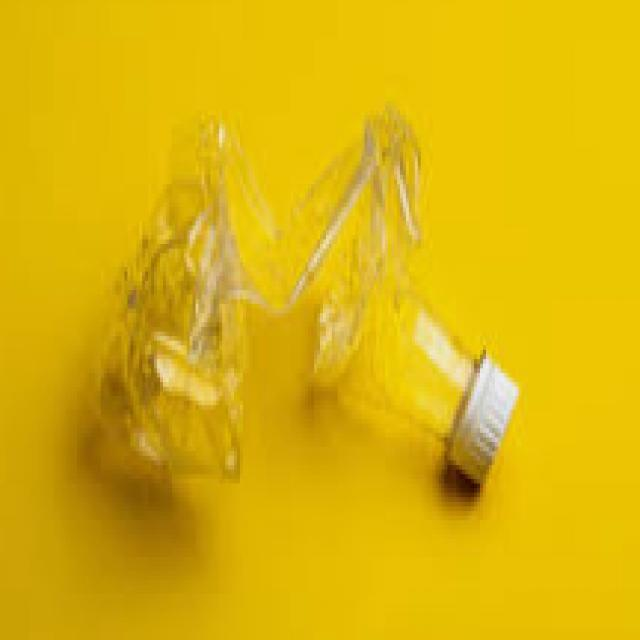Botella de plastico: (120, 108, 518, 485)
